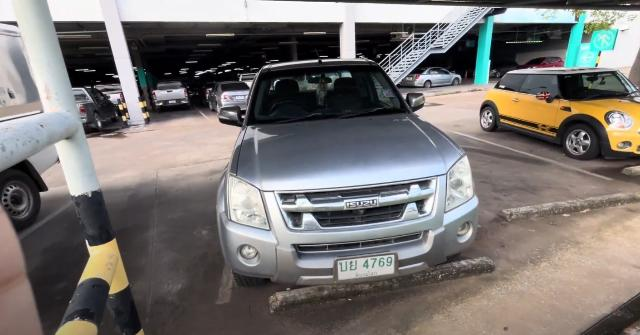pickup-truck: (215, 58, 478, 301)
